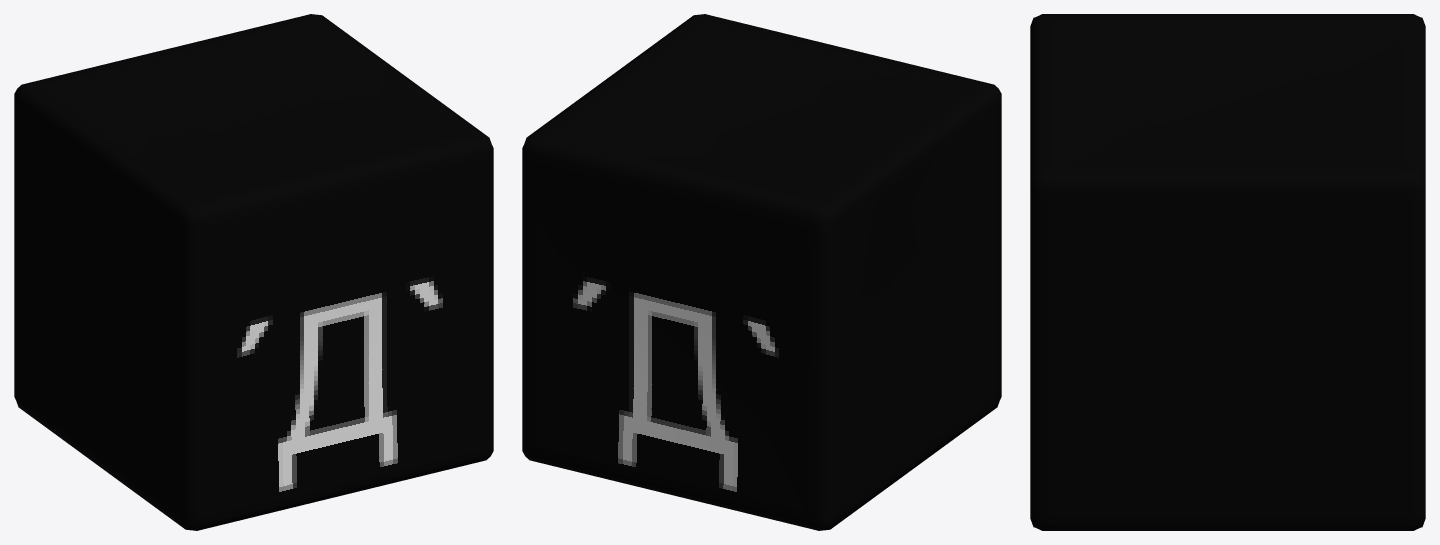
File: cube_enemy.dae
3 views of the same model, side by side, from view 1: azimuth 30°, elevation 25°; view 2: azimuth 150°, elevation 25°; view 3: azimuth 270°, elevation 25° (orthographic). The views are drawn at different scales.
Visible parts, largest first — view 1: 立方体; view 2: 立方体; view 3: 立方体.
Boxes of the visible parts, x1,y1,x2,y2 form: 立方体: (14,14,493,530); 立方体: (522,14,1001,530); 立方体: (1030,14,1425,530).
Size of the model in its own units: 1 by 1 by 1.
1 material, 1 textured.
